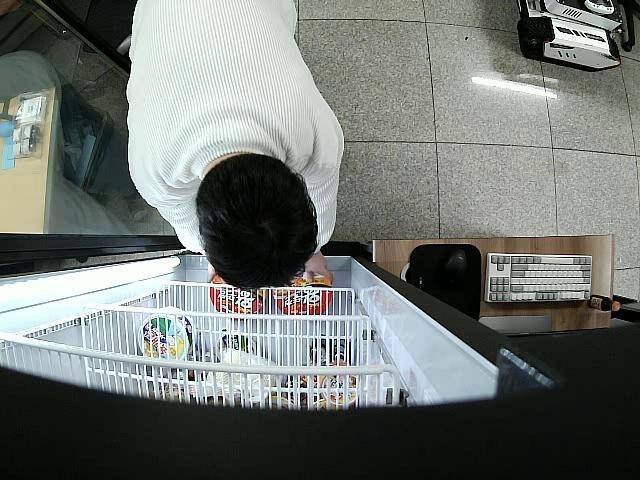10_wangTtukkeong: (273, 269, 334, 316)
